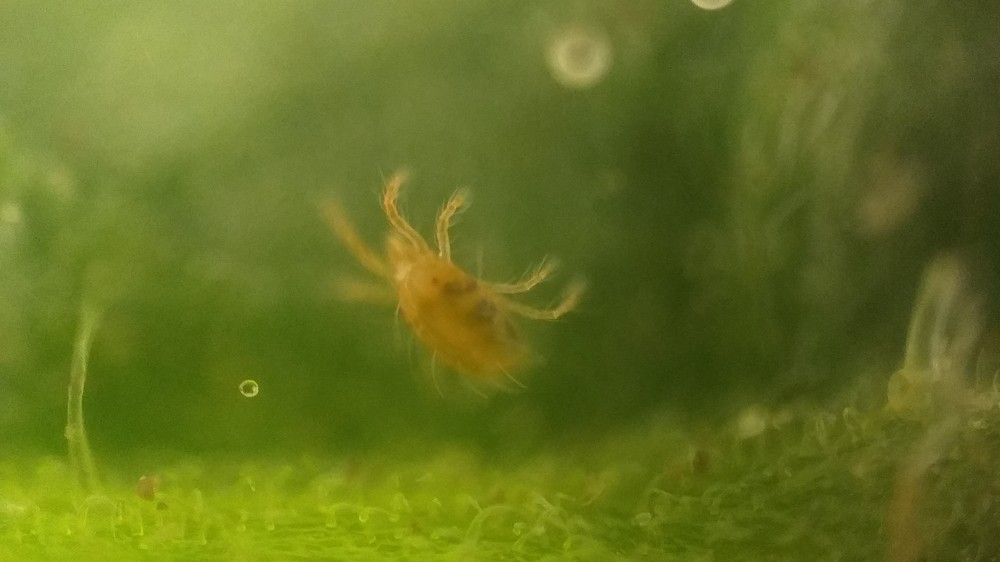Aracnido Rojo: (289, 166, 613, 429)
